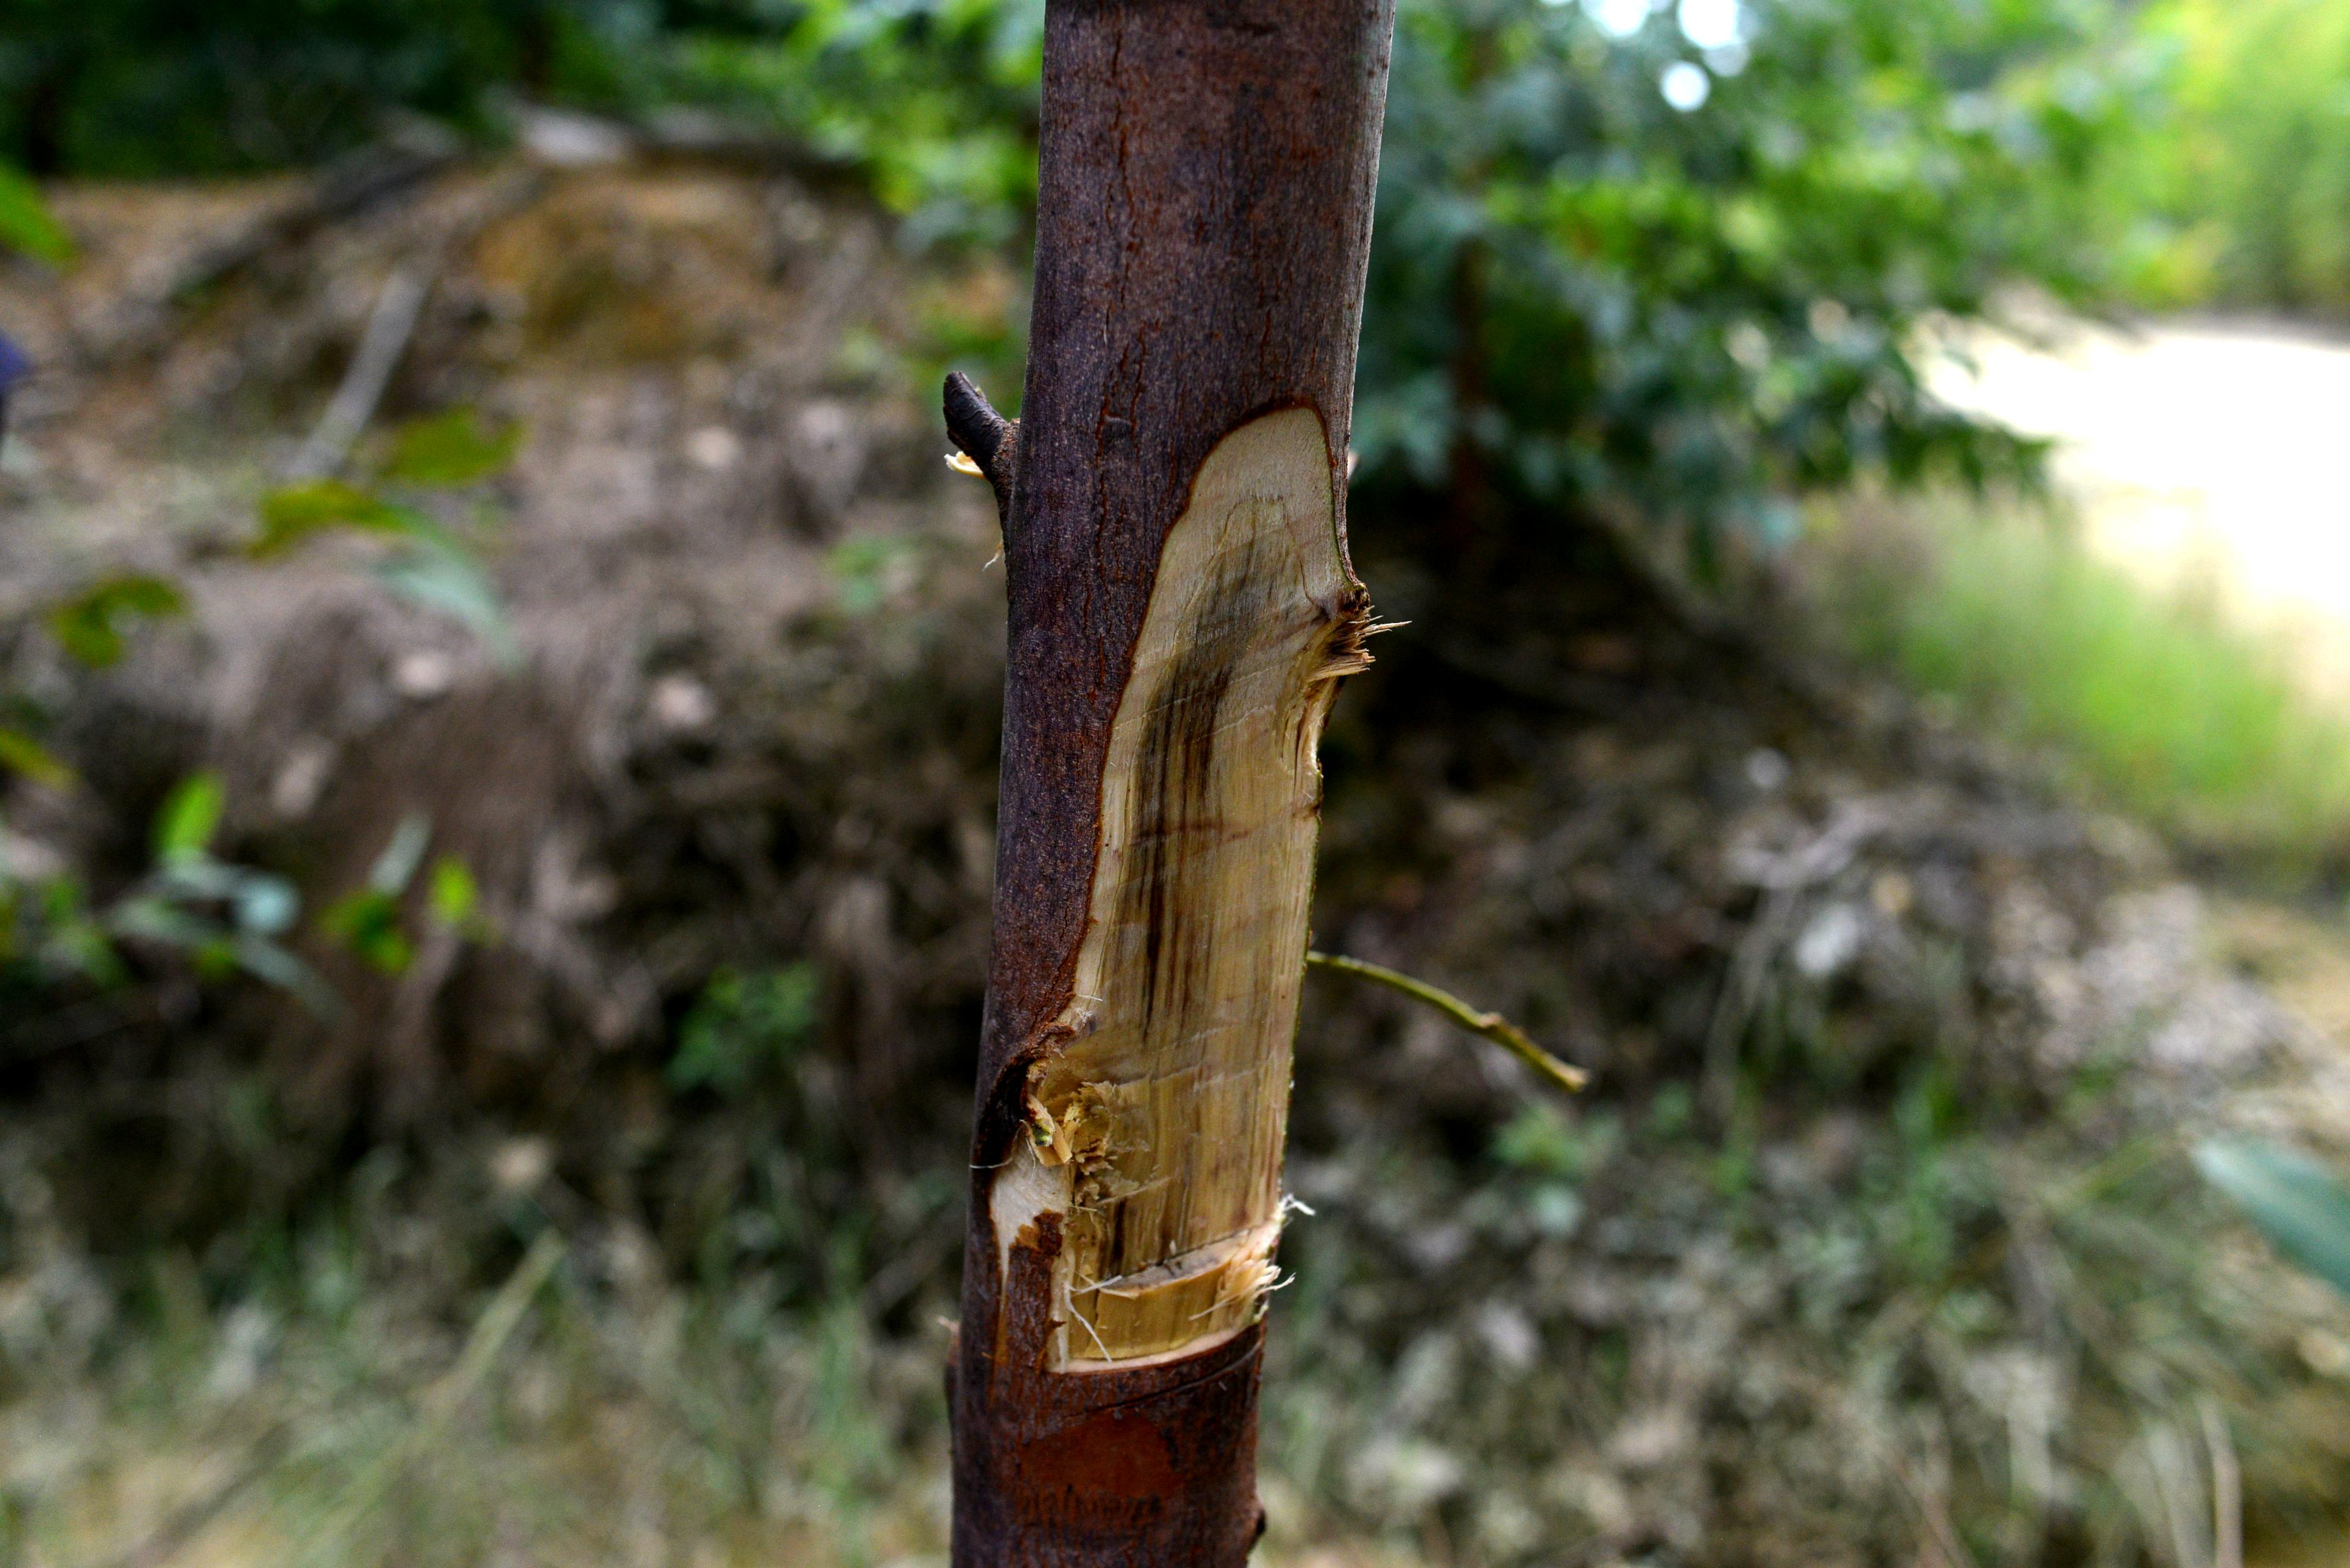Ralstonia: (1003, 394, 1340, 1375)
